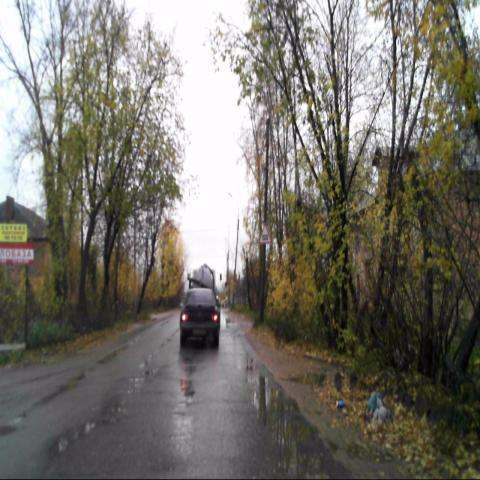1_1: (258, 224, 272, 245)
